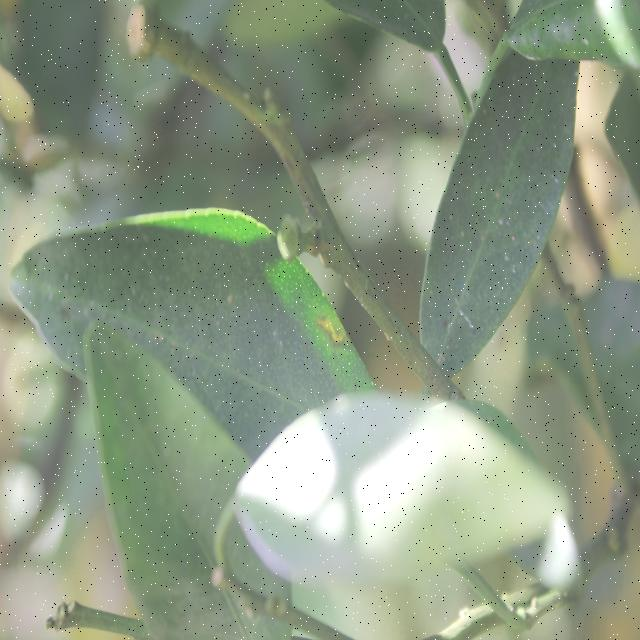canker: (95, 269, 350, 402)
